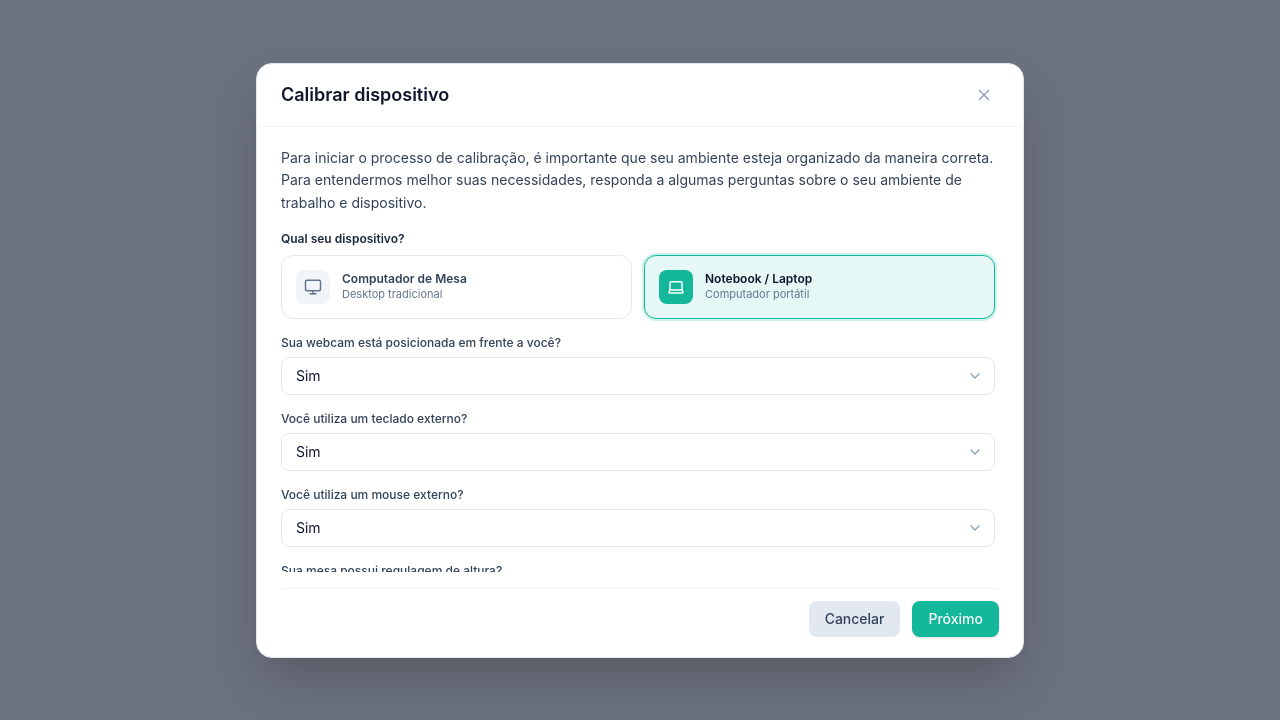
Test: WebcamFeed and deterministic biomechanics › reopens calibration at the setup form without briefly restarting its previous camera step
This screenshot has width=1280, height=720.
Click the button "Próximo" at coordinates (956, 618), box [912, 600, 999, 636]
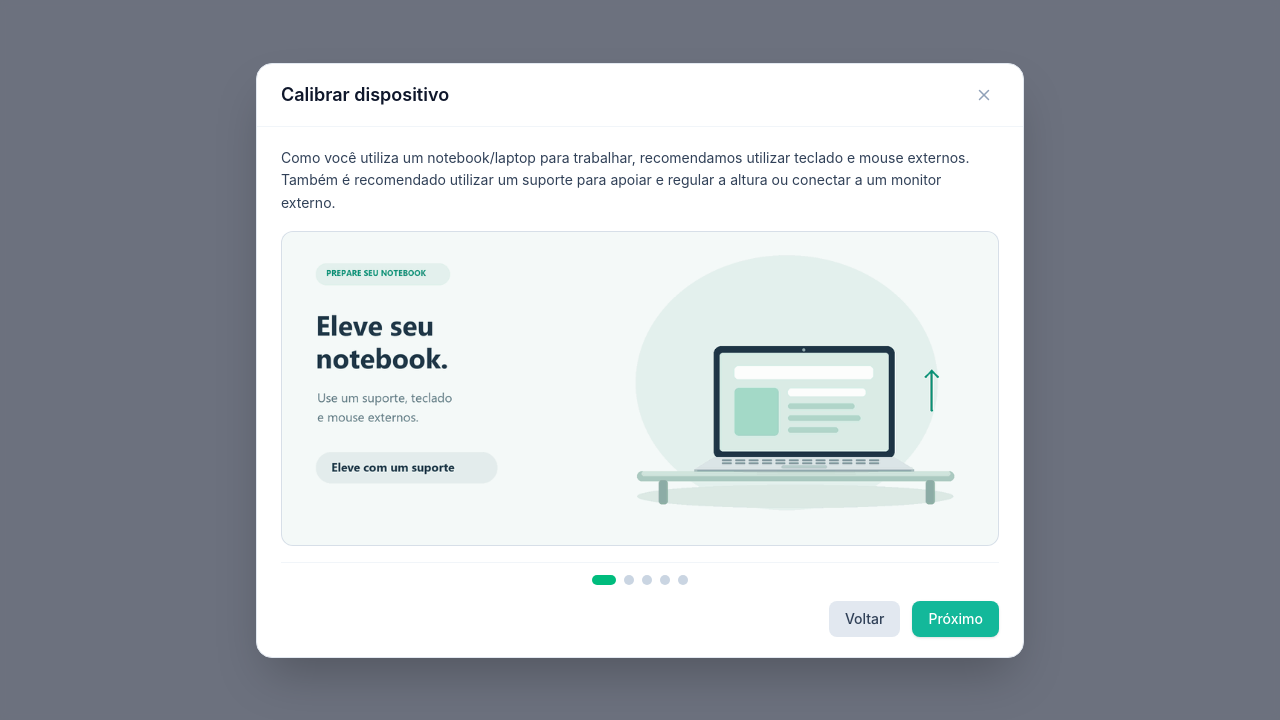
Click the button "Próximo" at coordinates (956, 618), box [912, 600, 999, 636]
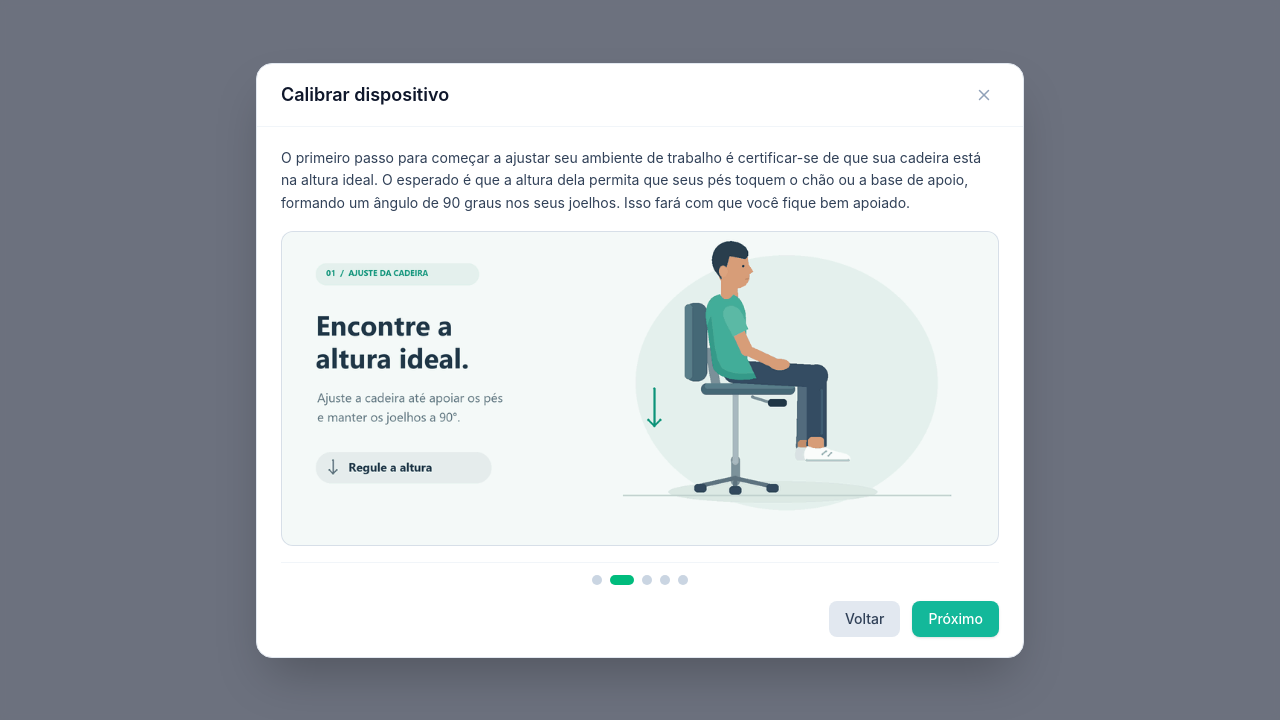
Click the button "Próximo" at coordinates (956, 618), box [912, 600, 999, 636]
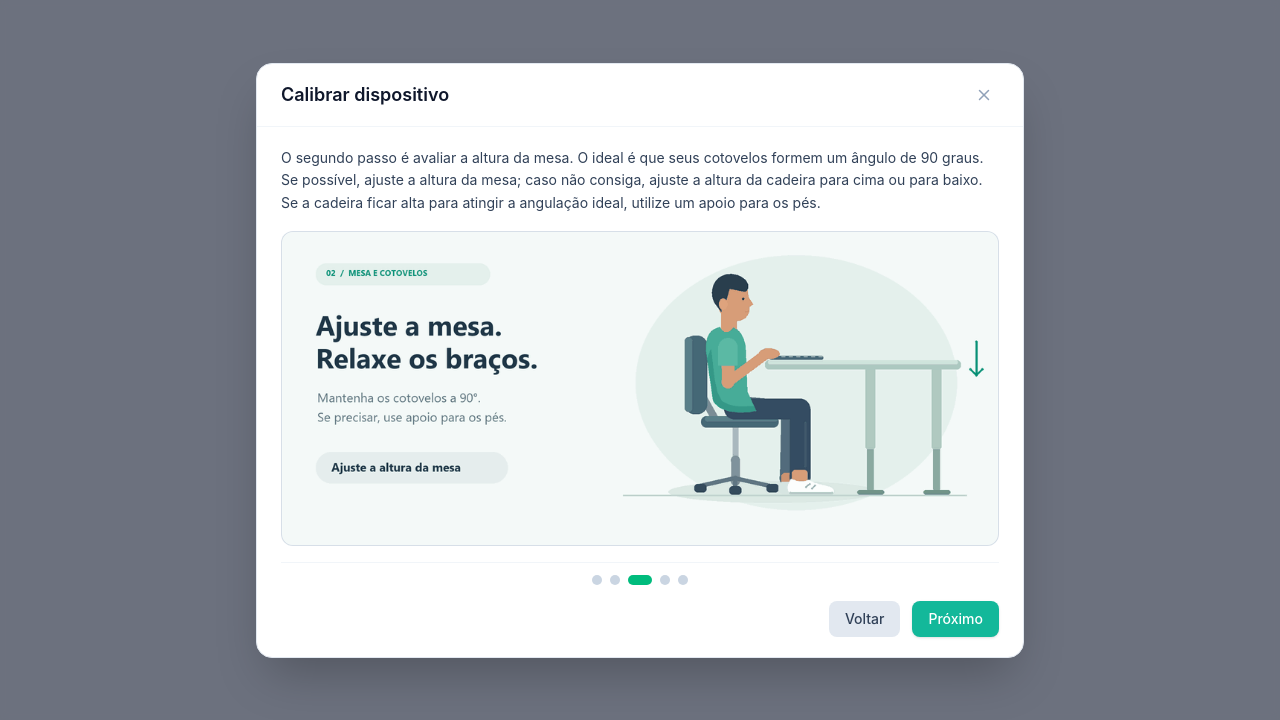
Click the button "Próximo" at coordinates (956, 618), box [912, 600, 999, 636]
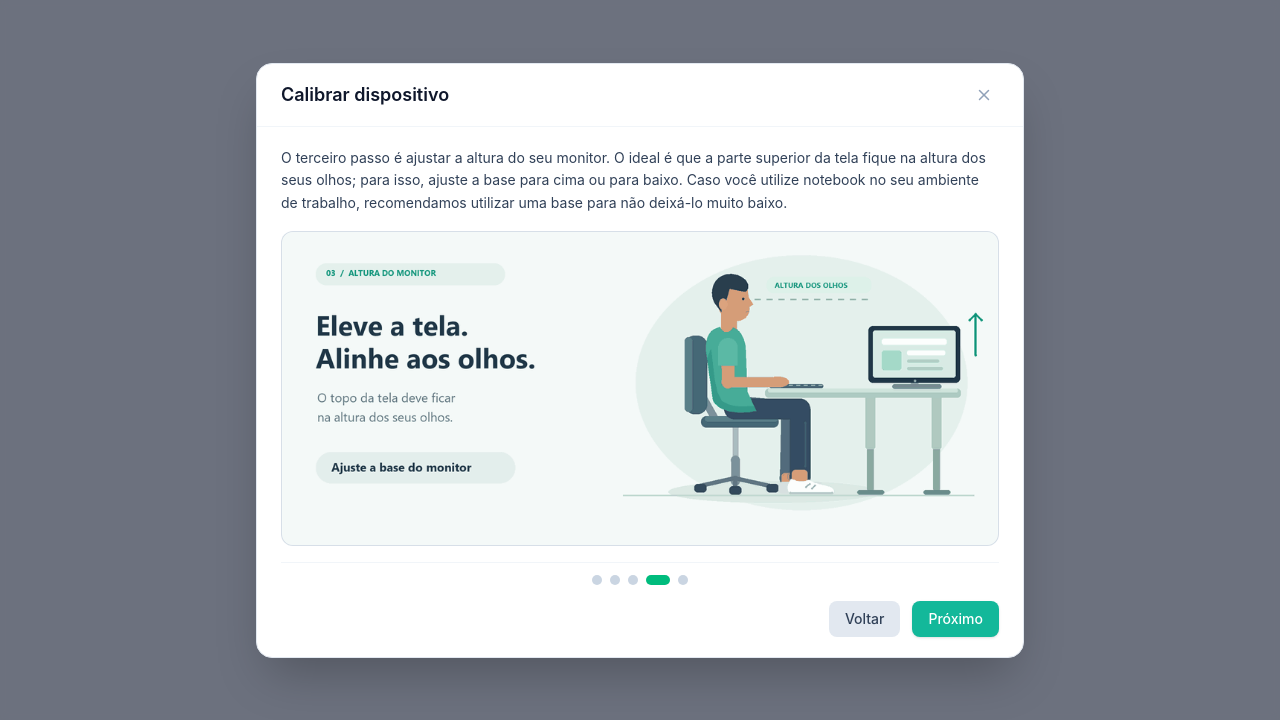
Click the button "Próximo" at coordinates (956, 618), box [912, 600, 999, 636]
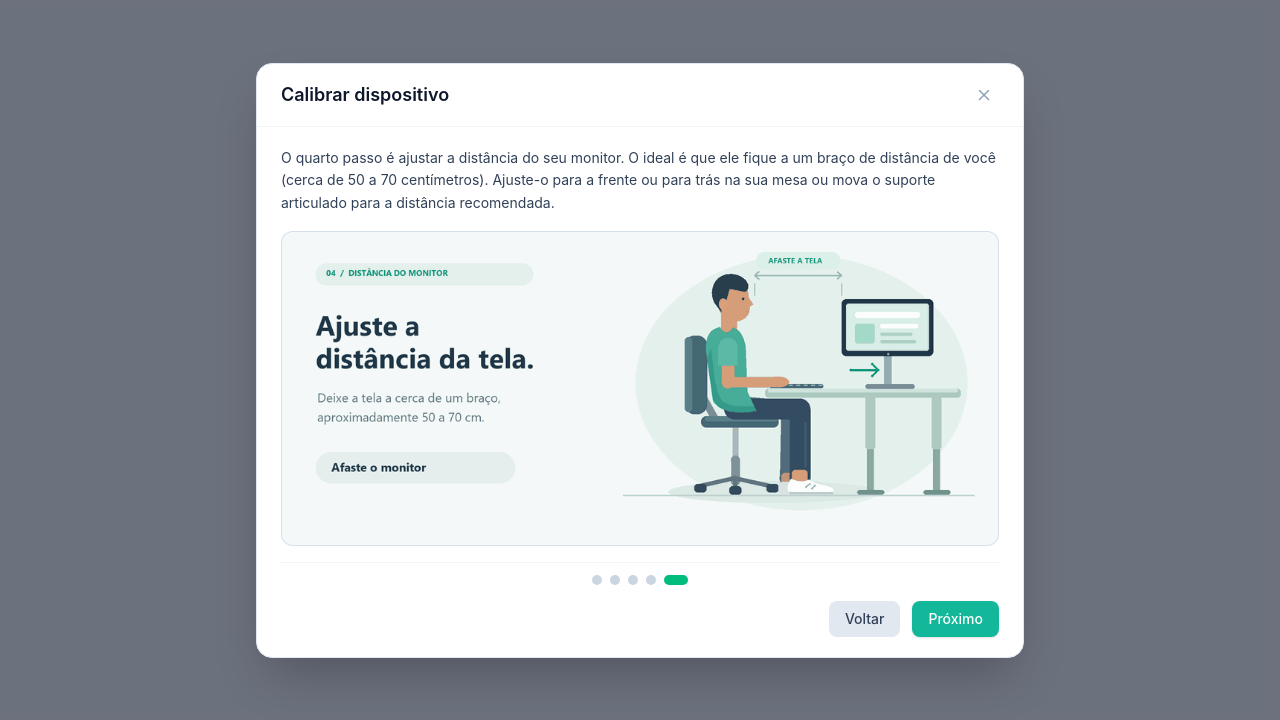
Click the button "Próximo" at coordinates (956, 618), box [912, 600, 999, 636]
Wait 400 ms
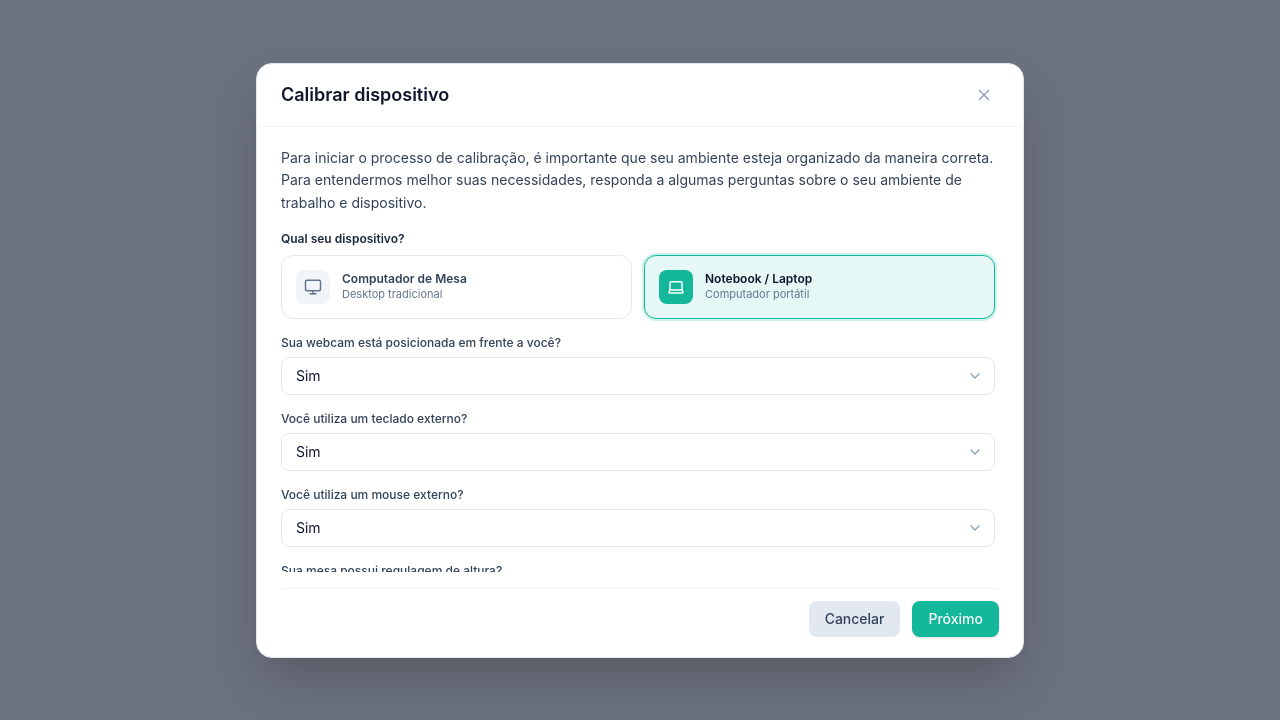
Expected: the dialog shows "Qual seu dispositivo?", [281, 231, 404, 246]
